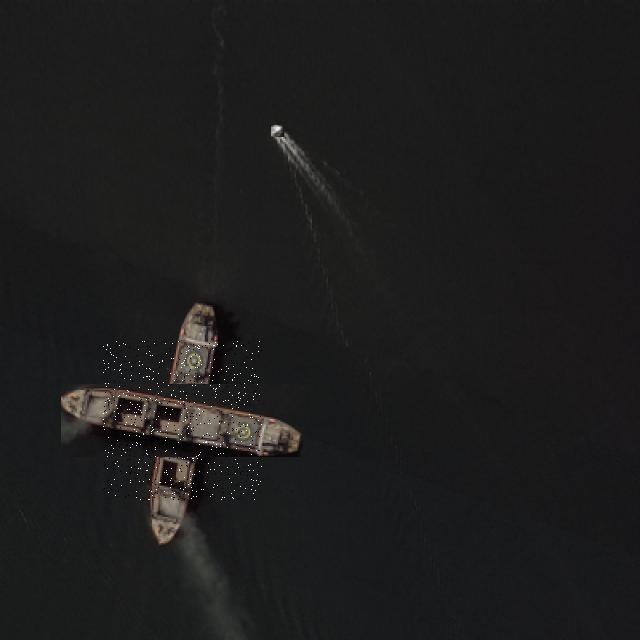boat: (103, 341, 262, 500), (270, 123, 284, 137)
